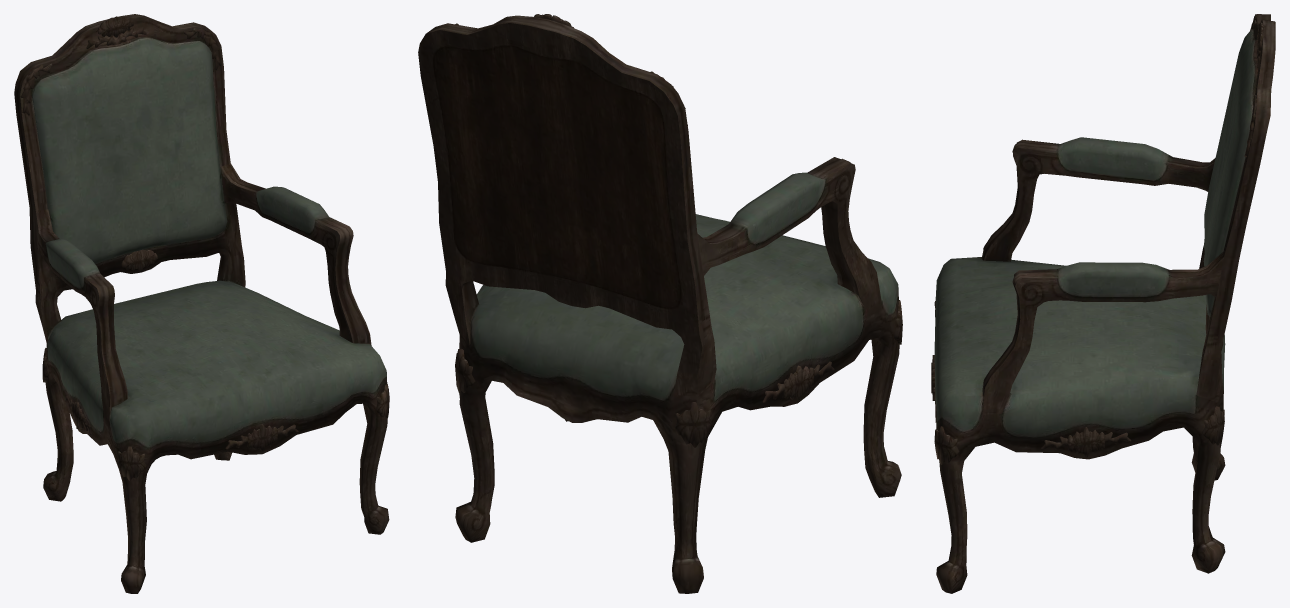
The model's file is armchair_green.glb.
The picture shows the model from 3 angles, left to right: view 1: azimuth 30°, elevation 25°; view 2: azimuth 150°, elevation 25°; view 3: azimuth 270°, elevation 25°; orthographic projection. The views are drawn at different scales.
Parts seen in each view (by area): view 1: GreenChair_01; view 2: GreenChair_01; view 3: GreenChair_01.
Part boxes in pixels (left/top/right/bottom): GreenChair_01: left=14, top=14, right=389, bottom=593; GreenChair_01: left=418, top=14, right=902, bottom=593; GreenChair_01: left=931, top=14, right=1275, bottom=593.
Bounding box in the file's own units: 0.6732 × 1.06 × 0.6644.
1 material, 1 textured.
